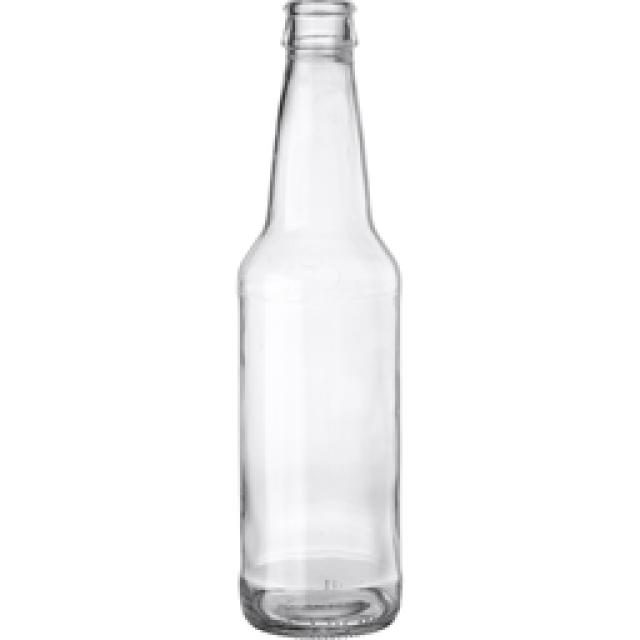glass_beverage_bottles: (242, 0, 402, 635)
